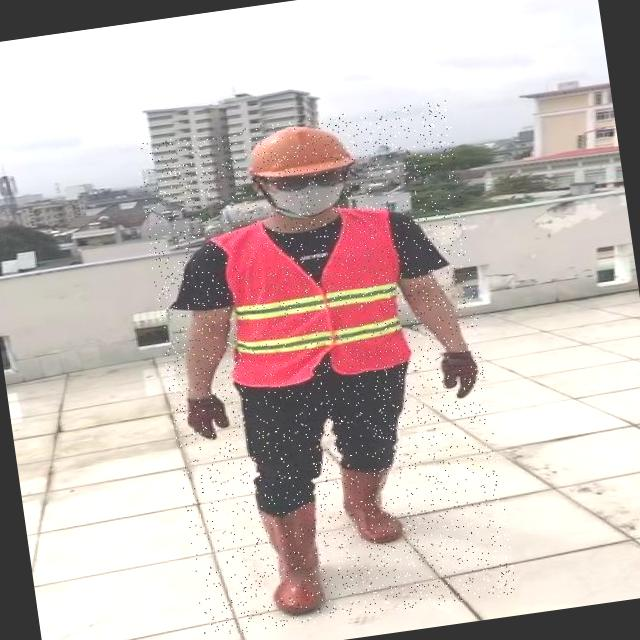boots: (253, 500, 337, 618), (335, 458, 410, 548)
gloves: (374, 321, 546, 428), (170, 382, 284, 480)
helmet: (230, 112, 366, 186)
vest: (218, 206, 412, 392)
